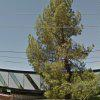Tree: (24, 3, 100, 96)
